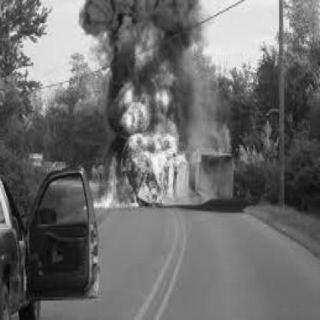Fire: (94, 12, 200, 210)
